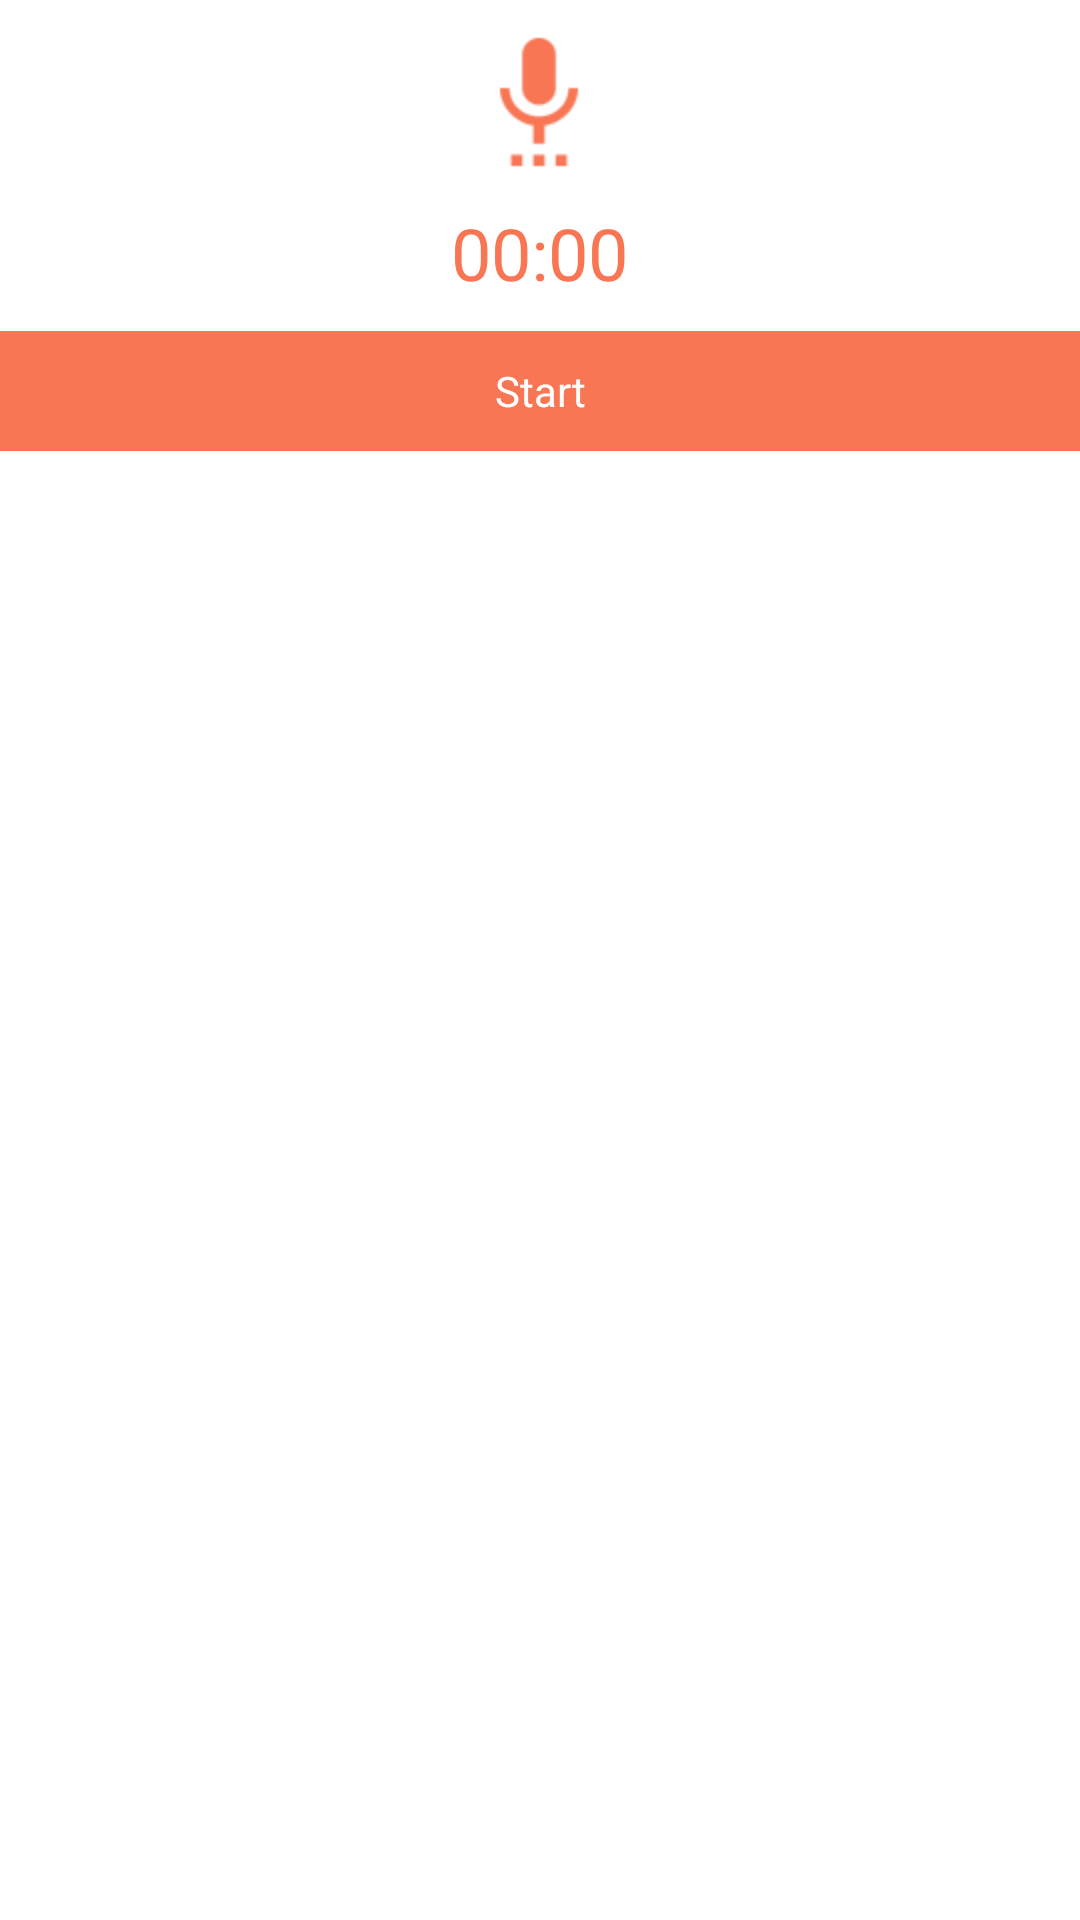

Icons on this 1080px x 1920px Android screen, each with the point to tap as (x=x, y=y):
record audio: (x=539, y=102)
